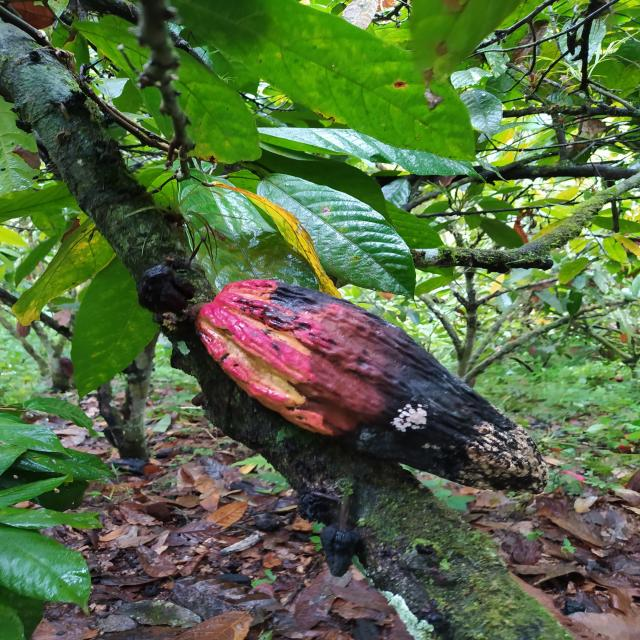Fitoftora: (196, 278, 548, 491)
